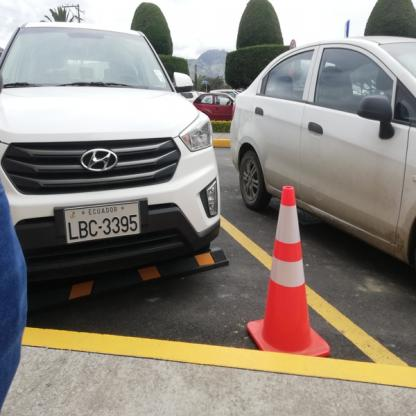Placa: (61, 200, 144, 245)
